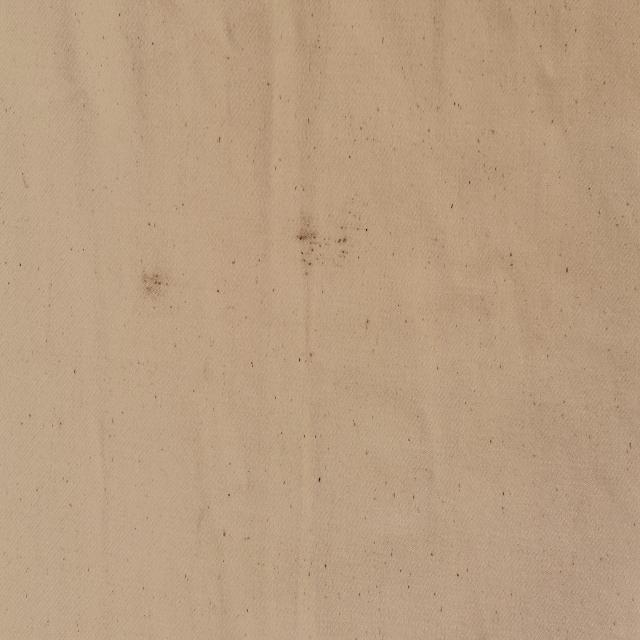taaaches: (282, 209, 362, 287), (128, 253, 178, 315)
